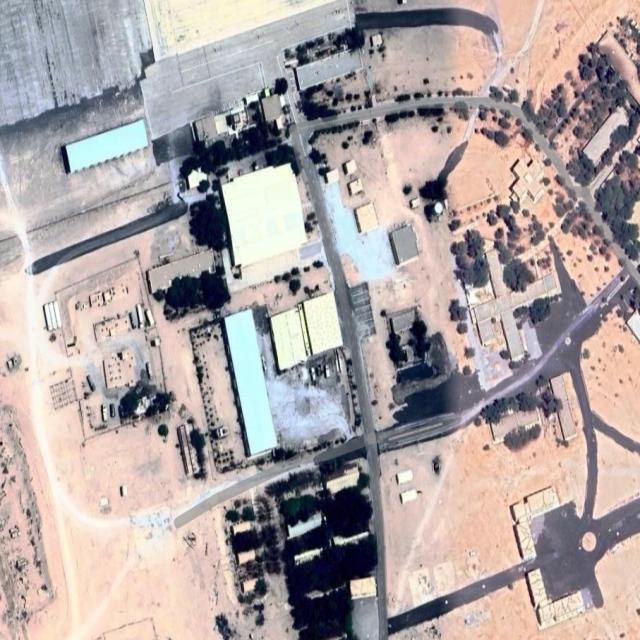Countryside roofs: (428, 234, 570, 368), (208, 178, 316, 272), (225, 308, 282, 466), (270, 296, 348, 376), (496, 489, 569, 563), (505, 568, 601, 622), (66, 122, 148, 185), (80, 307, 151, 343), (512, 147, 542, 214), (386, 219, 429, 265), (99, 350, 140, 398), (344, 199, 380, 248), (85, 288, 116, 316), (346, 178, 368, 196), (324, 165, 341, 187), (342, 154, 357, 174)
